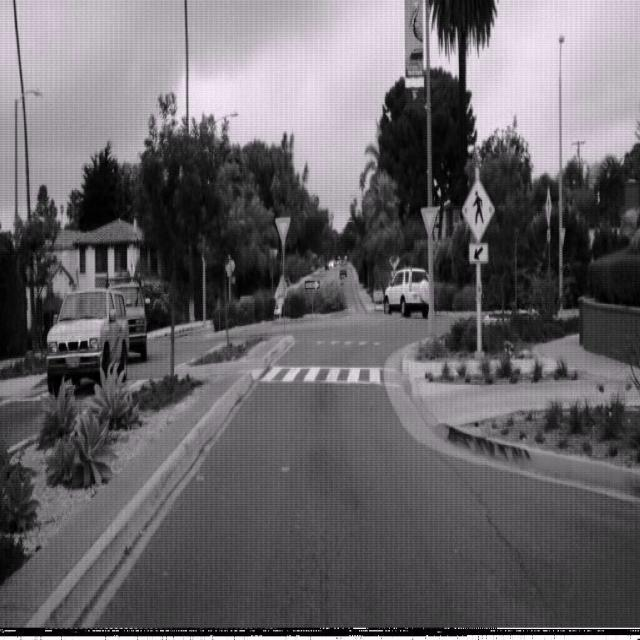pedestrianCrossing: (461, 175, 495, 243)
yield: (420, 204, 439, 237), (274, 216, 290, 245)
